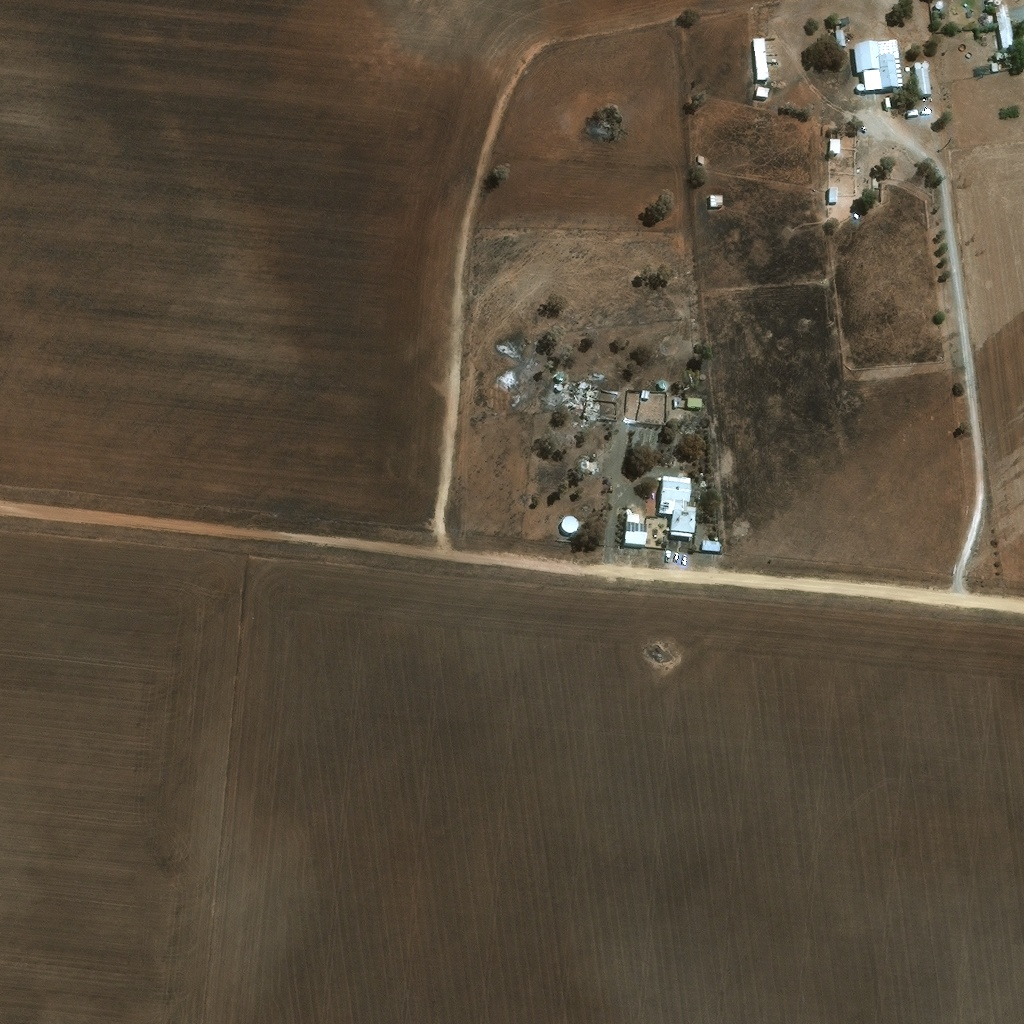0 no-damage: (853, 36, 904, 90), (658, 473, 697, 538), (623, 506, 649, 544), (753, 36, 768, 80), (915, 66, 932, 94), (562, 512, 582, 531), (682, 389, 703, 406), (832, 24, 846, 45), (702, 535, 720, 551), (756, 84, 771, 97), (710, 192, 723, 205), (830, 136, 841, 151), (996, 50, 1006, 66), (829, 184, 839, 200), (657, 377, 669, 387), (697, 152, 707, 162), (641, 387, 651, 397), (913, 60, 922, 68), (921, 59, 930, 67), (856, 81, 864, 89), (992, 60, 997, 70)
2 major-damage: (992, 0, 1016, 48), (972, 12, 994, 26), (556, 382, 563, 388)
3 destroyed: (562, 380, 602, 417), (581, 453, 596, 470), (554, 367, 566, 380)
4 un-classified: (886, 153, 894, 159)
